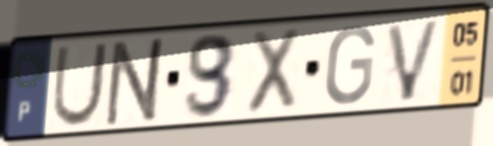9: (181, 30, 240, 121)
G: (321, 23, 378, 108)
N: (100, 33, 172, 130)
U: (49, 40, 112, 130)
V: (384, 15, 446, 105)
X: (242, 24, 305, 118)
